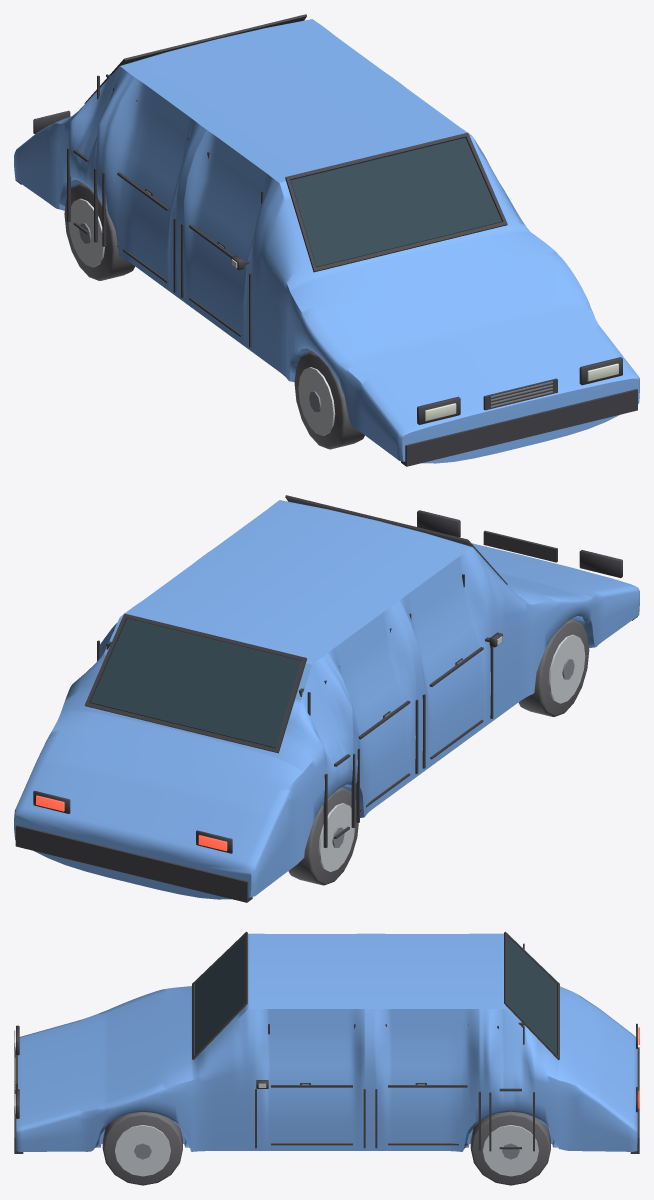
The model's file is Car_Sedan_25.fbx.
3 renders of one model, top to bottom at view 1: azimuth 30°, elevation 25°; view 2: azimuth 150°, elevation 25°; view 3: azimuth 270°, elevation 25°, orthographic. The views are drawn at different scales.
Parts seen in each view (by area): view 1: LOD0; view 2: LOD0; view 3: LOD0.
Part boxes in pixels (x1=…): LOD0: x1=14, y1=14, x2=639, y2=466; LOD0: x1=14, y1=495, x2=639, y2=902; LOD0: x1=14, y1=931, x2=639, y2=1185.
Size of what is drawn, in the model's own units: 190 by 146 by 484.
